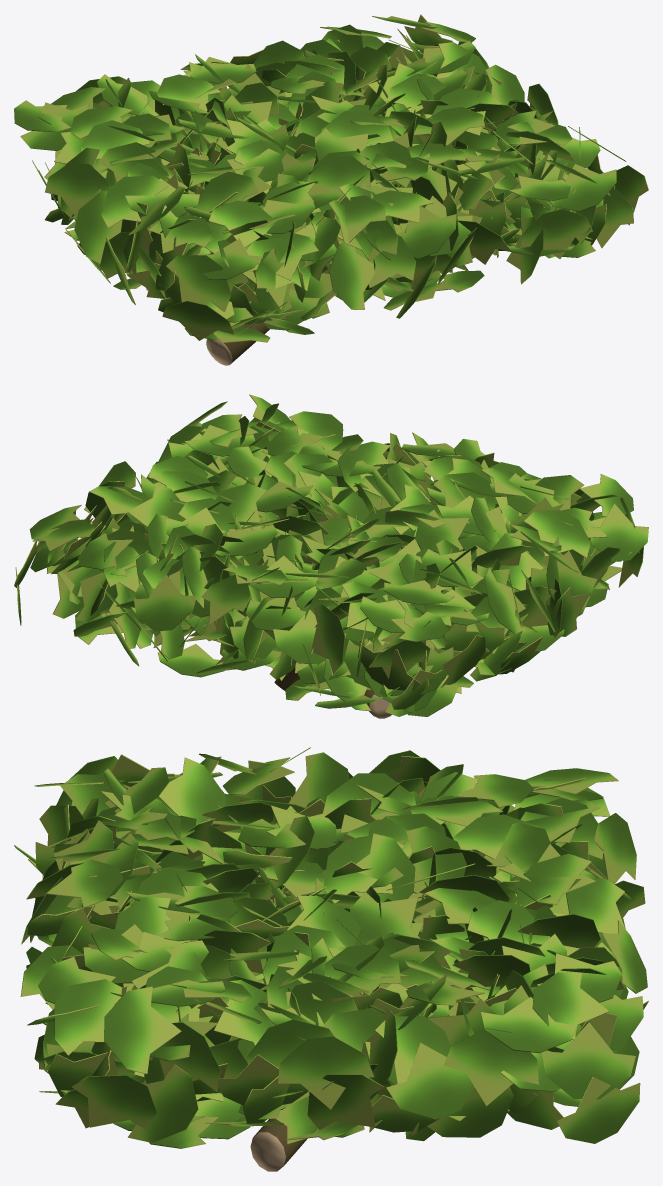
File: Branches and Leaves_Reiteration.fbx
The picture shows the model from 3 angles, top to bottom: view 1: azimuth 30°, elevation 25°; view 2: azimuth 150°, elevation 25°; view 3: azimuth 270°, elevation 25°; orthographic projection. The views are drawn at different scales.
Visible parts, largest first — view 1: Leaf, Branch.001; view 2: Leaf, Branch; view 3: Leaf, Branch.
Boxes of the visible parts, x1=… form: Leaf: x1=14, y1=14, x2=648, y2=343; Branch.001: x1=206, y1=323, x2=269, y2=365; Leaf: x1=14, y1=394, x2=648, y2=716; Branch: x1=274, y1=667, x2=391, y2=718; Leaf: x1=14, y1=747, x2=648, y2=1148; Branch: x1=250, y1=1118, x2=306, y2=1171.
Bounding box in the file's own units: 857 × 312 × 769.
3 materials, 1 textured.
